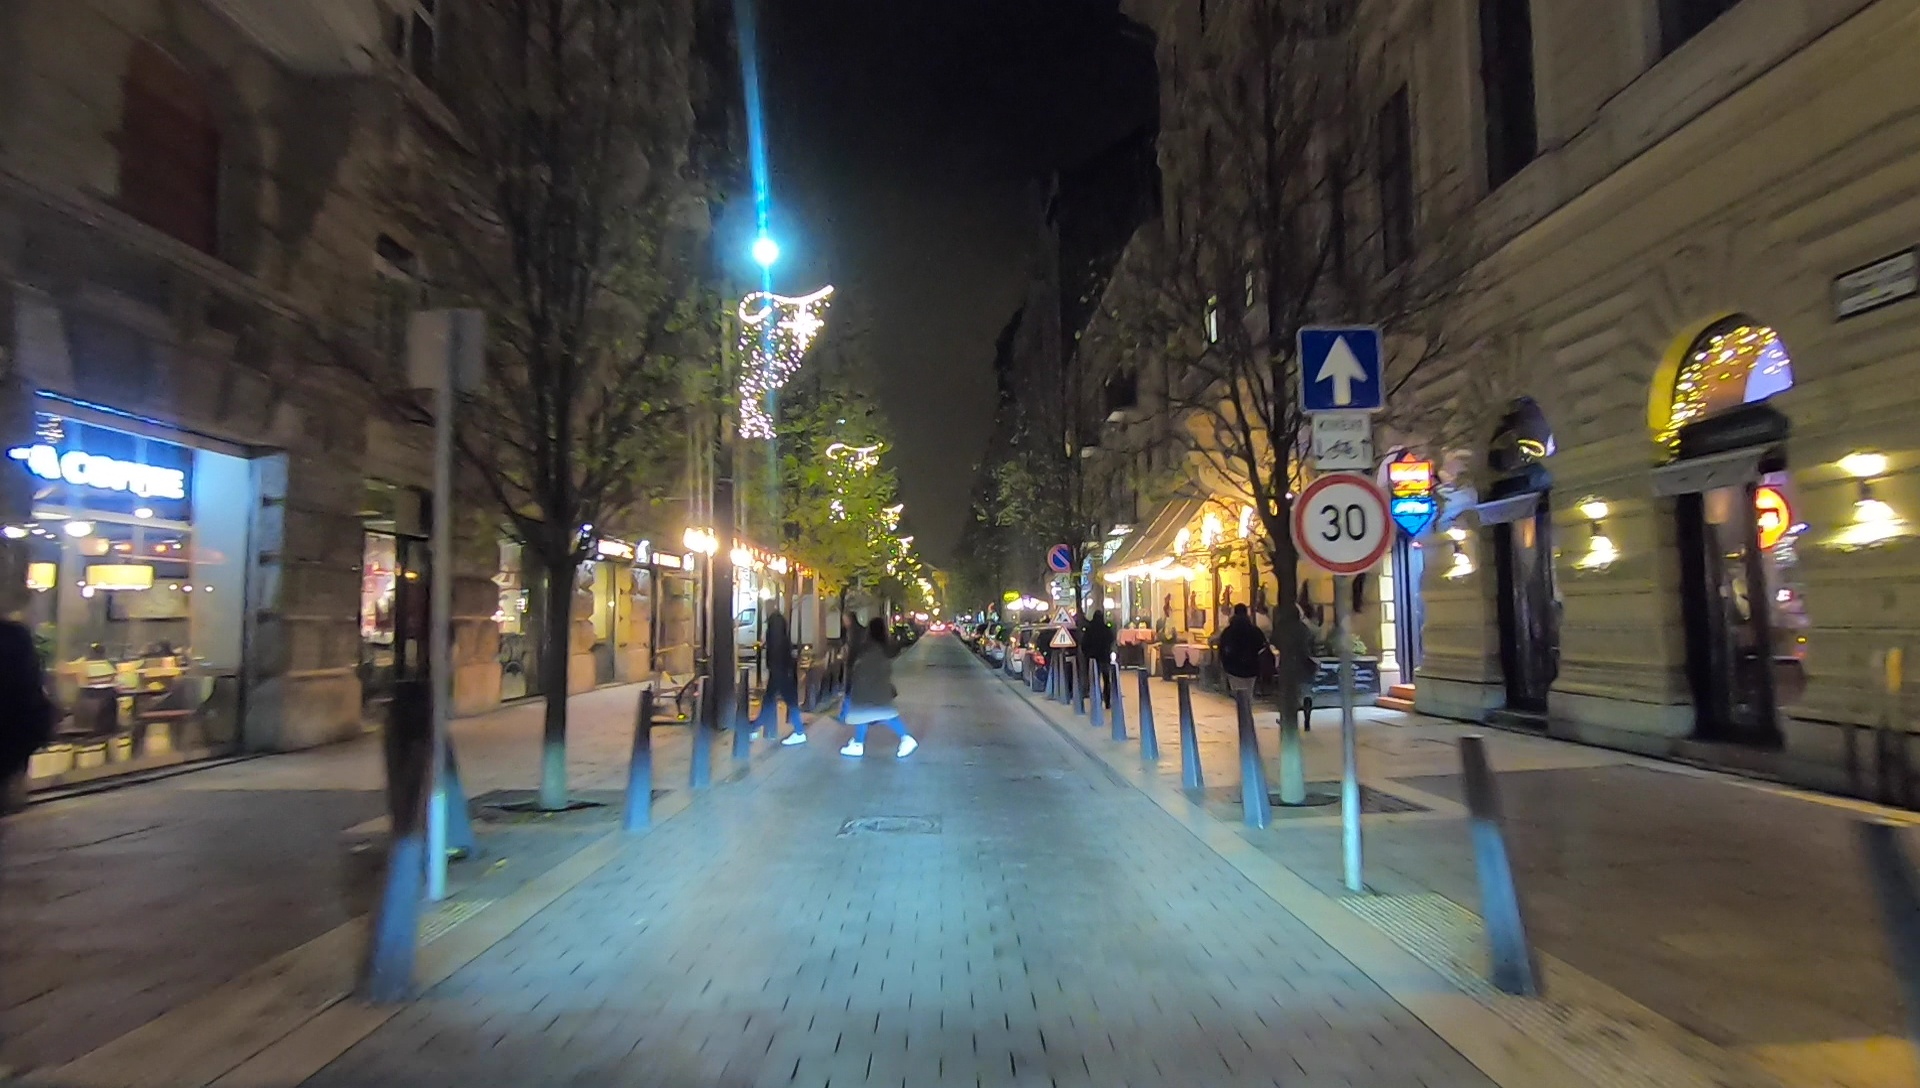person: (839, 621, 915, 761), (754, 613, 804, 747), (1275, 602, 1321, 741), (1221, 606, 1260, 732), (1086, 615, 1112, 704)
